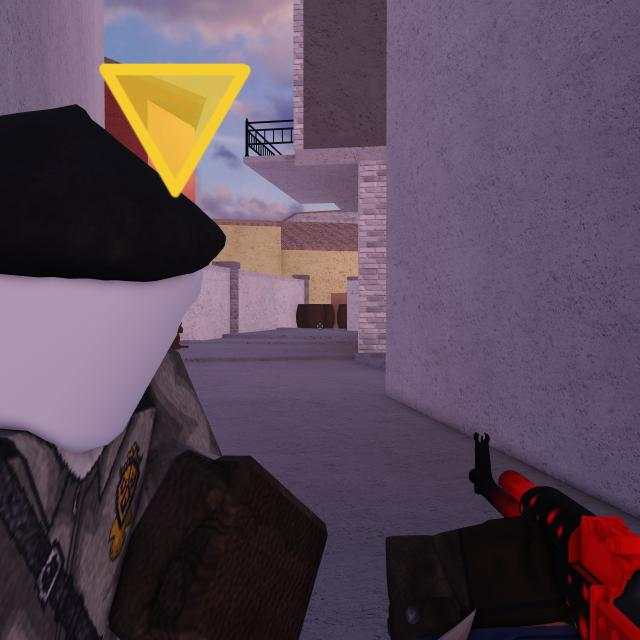Head: (0, 104, 226, 448)
Player: (0, 101, 227, 640)
